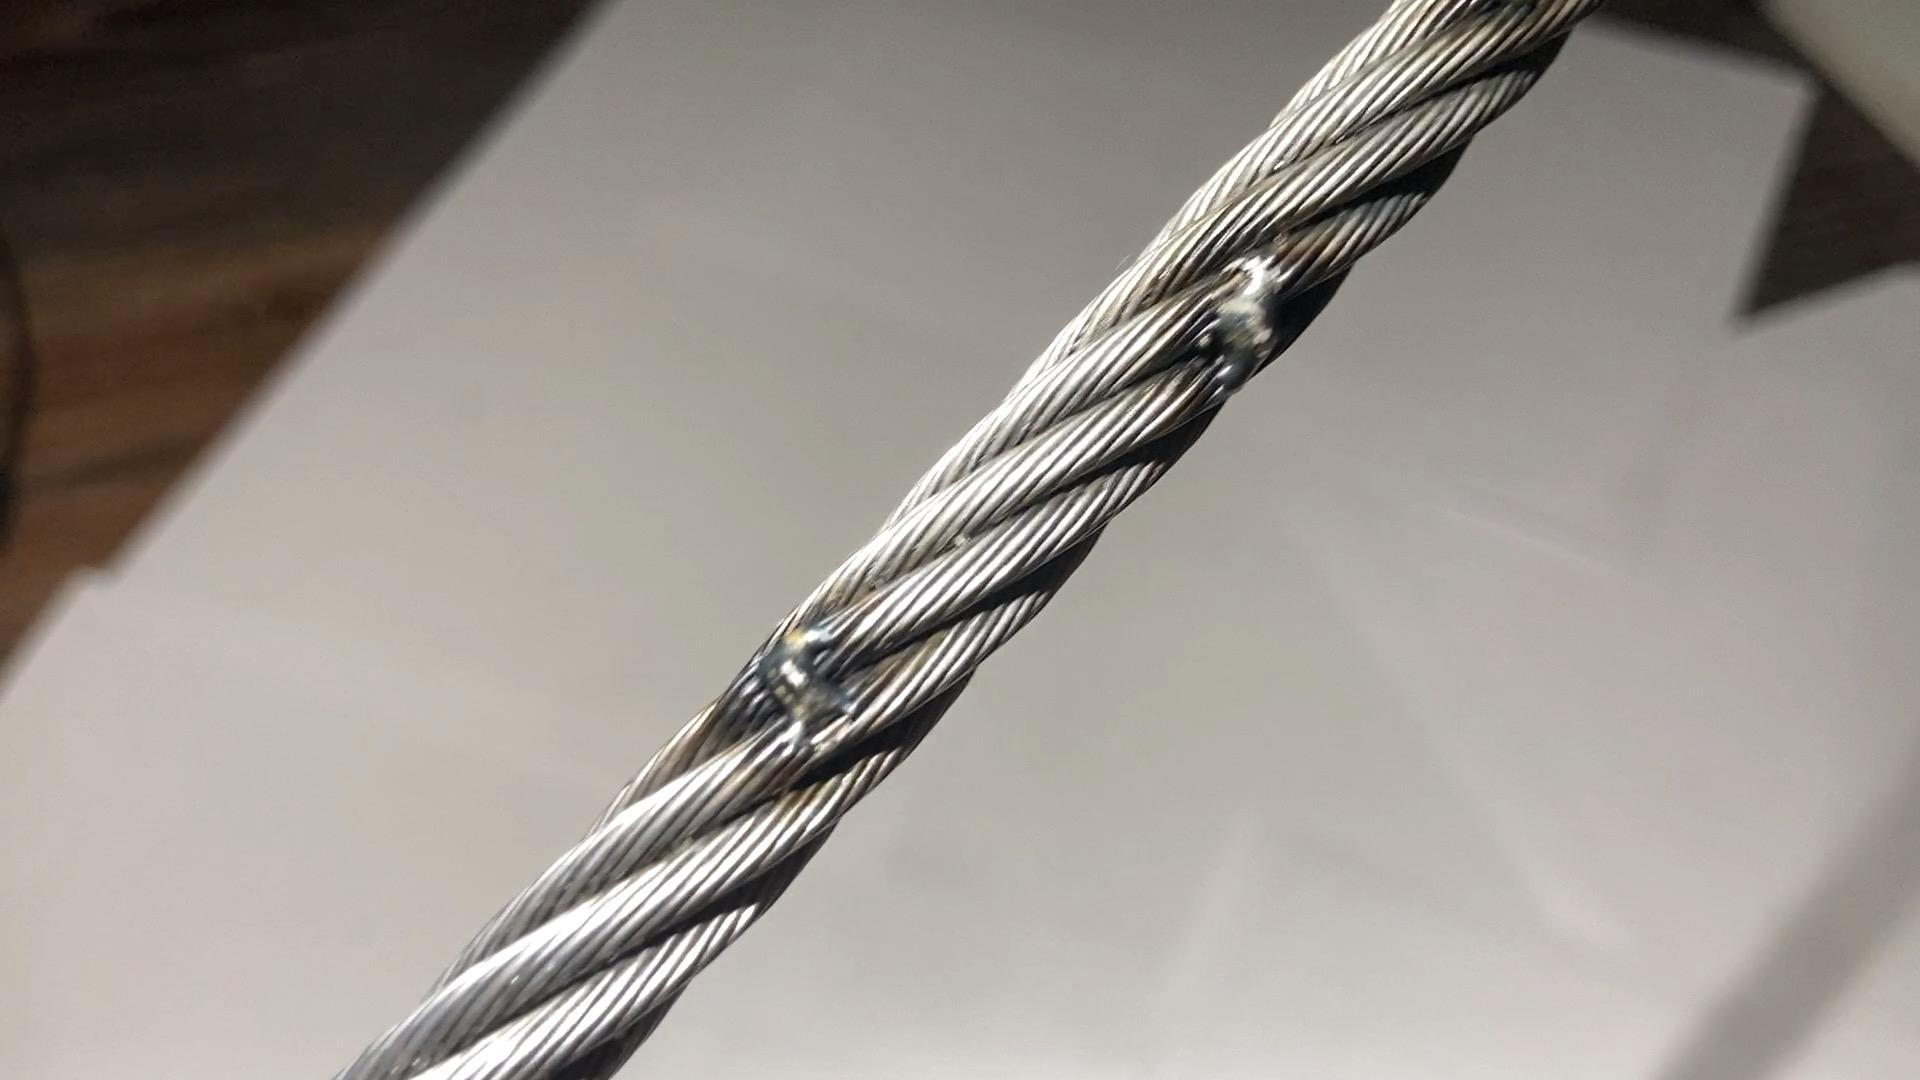thunderbolt: (756, 626, 861, 727)
